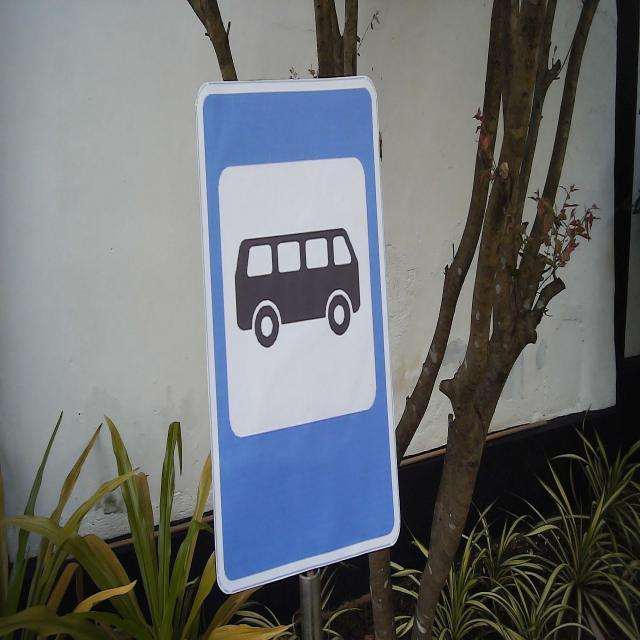bus_stop: (193, 72, 402, 598)
